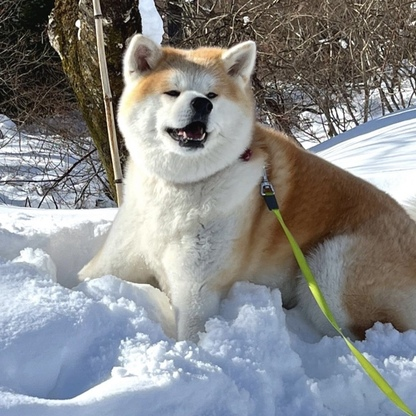akita: (67, 26, 416, 354)
